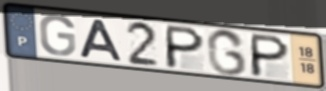2: (125, 20, 160, 70)
A: (77, 18, 125, 63)
G: (205, 27, 249, 78), (37, 14, 78, 58)
P: (163, 23, 207, 71), (248, 32, 292, 79)
